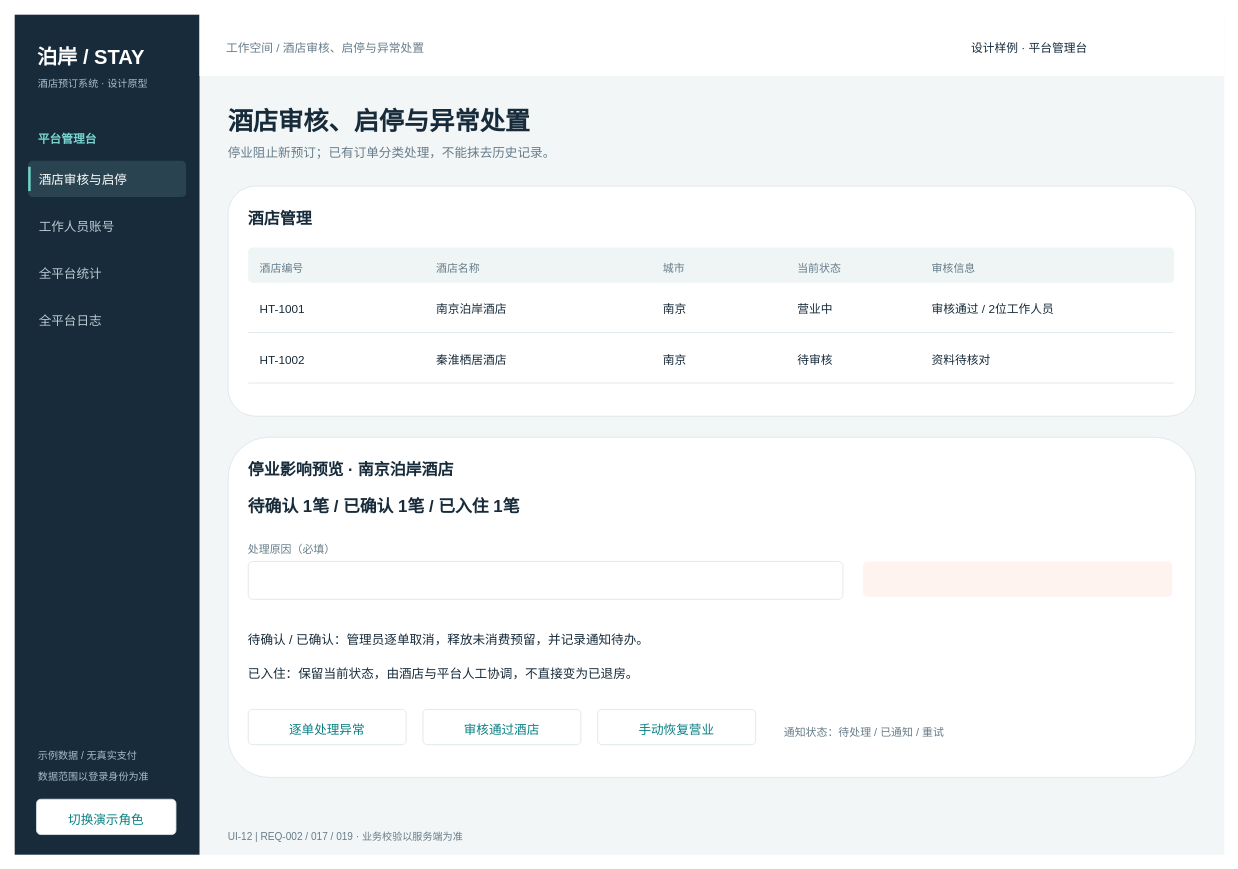
Image size: 1238x869. Some labels were removed from this diagram. Here are the shapes that lost their labels. From the top down, the centre of each, then its label:
At point 545,580: "酒店临时停业检修".
At point 1017,578: "标记停业，停止新预订".
